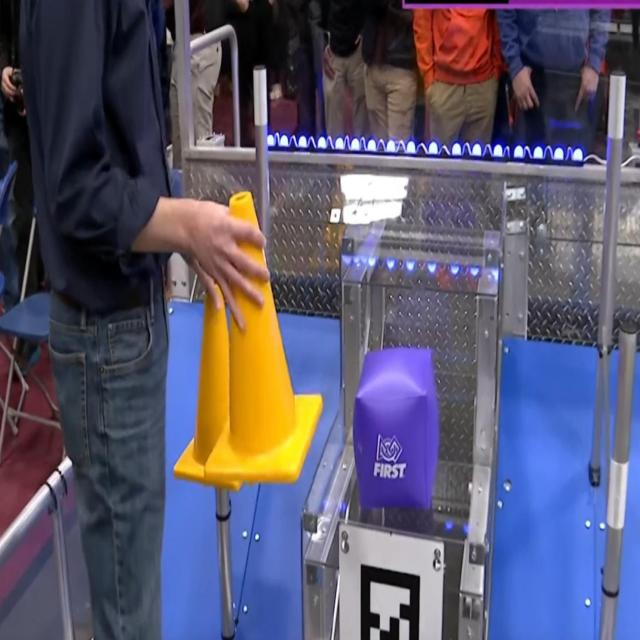frc_cone: (209, 189, 322, 479), (172, 280, 249, 492)
frc_cube: (354, 350, 441, 514)
